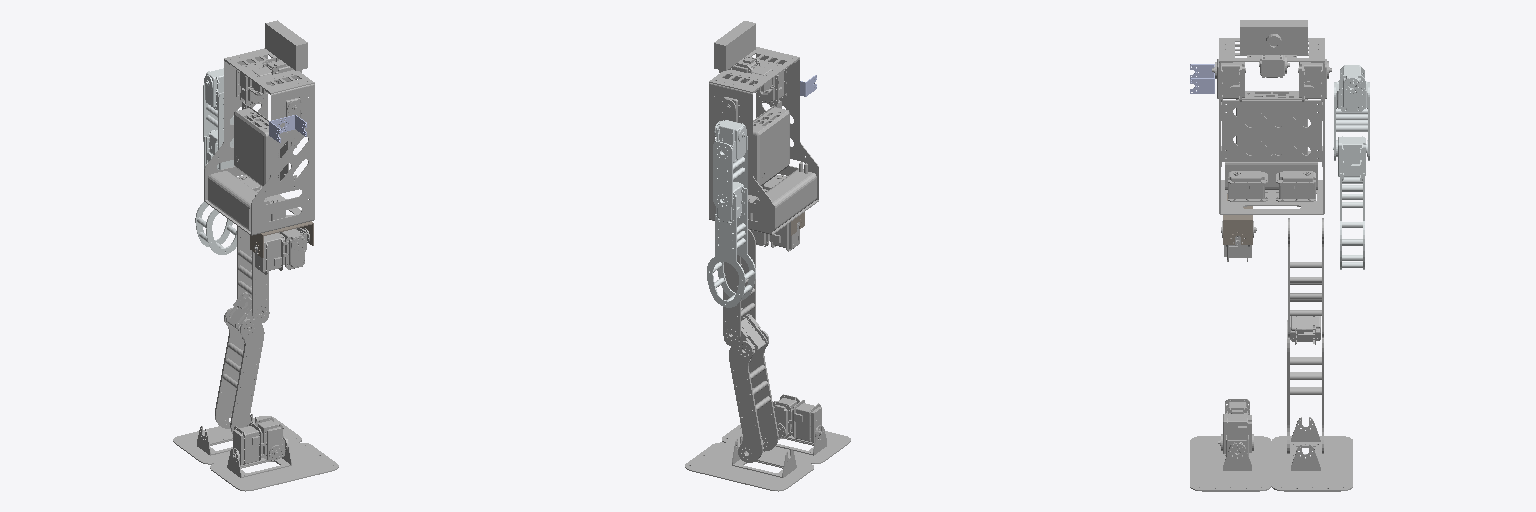
The robot description file, URDF, robot "SAKURA":
<?xml version="1.0"?>
<robot
  name="SAKURA">	
  <link name="base_link">
      <origin
        xyz="0 0 0"
        rpy="0 0 0" />
  </link>
  <link
    name="TRUNK">
    <inertial>
      <origin
        xyz="-0.000142944293532541 -0.0159940135836359 0.119253638413231"
        rpy="0 0 0" />
      <mass
        value="1.4778155091901" />
      <inertia
        ixx="0.0125398154437975"
        ixy="-2.68478156217668E-06"
        ixz="-7.17353402812125E-06"
        iyy="0.016695640033345"
        iyz="0.000776177026664091"
        izz="0.01567882258573842" />
    </inertial>
    <visual>
      <origin
        xyz="0 0 0"
        rpy="0 0 0" />
      <geometry>
        <mesh
          filename="package://sakura_description/meshes/TRUNK.STL" />
      </geometry>
      <material
        name="">
        <color
          rgba="0.752941176470588 0.752941176470588 0.752941176470588 1" />
      </material>
    </visual>
  </link>
  <joint name="GLOBAL" type="floating">
    <parent link="base_link"/>
    <child link="TRUNK"/>
    <origin xyz="0 0 0" rpy="0 0 -1.570795"/>
  </joint>
  <link
    name="HEAD0">
    <collision>
      <origin xyz="-0.0038811 0.012249 0.048965"/>
      <geometry>
      <box size="0.01 0.01 0.01"/>
      </geometry>
    </collision>
    <visual>
      <origin xyz="0 0 0" rpy="0 0 0"/>
      <geometry>
    <box size="0.01 0.01 0.01"/>
      </geometry>
      <material name="red"/>
    </visual>
    <inertial>
      <mass value="1e-2" />
      <origin xyz="0 0 0" rpy="0 0 0"/>
      <inertia ixx="1e-3" ixy="0" ixz="0" iyy="1e-3" iyz="0" izz="1e-3" />
    </inertial>
  </link>
  <link
    name="HEAD1">
    <inertial>
      <origin
        xyz="0 0 0"
        rpy="0 0 0" />
      <mass
        value="0.21462" />
      <inertia
        ixx="0.00110122"
        ixy="8.917E-07"
        ixz="4.6738E-06"
        iyy="0.001"
        iyz="-1.8633E-05"
        izz="0.001" />
    </inertial>
    <visual>
      <origin
        xyz="0 0 0"
        rpy="0 0 0" />
      <geometry>
        <mesh
          filename="package://sakura_description/meshes/HEAD.STL" />
      </geometry>
      <material
        name="">
        <color
          rgba="0.75294 0.75294 0.75294 1" />
      </material>
    </visual>
  </link>
  
  <joint
    name="J_HEAD0"
    type="continuous">
    <origin
      xyz="0.0016 0.01125 0.2484"
      rpy="0 0 0" />
    <parent
      link="TRUNK" />
    <child
      link="HEAD0" />
    <axis
      xyz="0 0 1" />
    <limit
      effort="10"
      velocity="8.58" />
    <dynamics 
	  damping="0.7"
	  friction="0.5"/>
  </joint>
  
  <joint
    name="J_HEAD1"
    type="continuous">
    <origin
      xyz="0 0 0"
      rpy="0 0 0" />
    <parent
      link="HEAD0" />
    <child
      link="HEAD1" />
    <axis
      xyz="1 0 0" />
    <limit
      effort="10"
      velocity="8.58" />
    <dynamics 
	  damping="0.7"
	  friction="0.5"/>
  </joint>
  
  <link
    name="LARM0">
    <inertial>
      <origin
        xyz="4.16333634234434E-17 2.77555756156289E-17 0.0103025666414173"
        rpy="0 0 0" />
      <mass
        value="0.0066175226097181" />
      <inertia
        ixx="1.E-03"
        ixy="0"
        ixz="0"
        iyy="1.E-03"
        iyz="0"
        izz="1.E-03" />
    </inertial>
    <visual>
      <origin
        xyz="0 0 0"
        rpy="0 0 0" />
      <geometry>
        <mesh
          filename="package://sakura_description/meshes/LARM0.STL" />
      </geometry>
      <material
        name="">
        <color
          rgba="0.792156862745098 0.819607843137255 0.933333333333333 1" />
      </material>
    </visual>
  </link>
  <joint
    name="J_LARM0"
    type="continuous">
    <origin
      xyz="-0.0935 -0.038 0.209"
      rpy="1.5708 3.14159 -1.5708" />
    <parent
      link="TRUNK" />
    <child
      link="LARM0" />
    <axis
      xyz="0 0 1" />
    <limit
      effort="10"
      velocity="8.58" />
    <dynamics 
     damping="0.7"
     friction="0.5"/>
  </joint>
  <link
    name="LARM1">
    <inertial>
      <origin
        xyz="-0.000203905909046856 -0.0358166170046635 -0.030724518771744"
        rpy="0 0 0" />
      <mass
        value="0.386889741732442" />
      <inertia
        ixx="0.001319462933467775"
        ixy="-7.00859671208955E-06"
        ixz="-6.33921748509821E-09"
        iyy="0.001"
        iyz="6.46973244600118E-07"
        izz="0.001386423060557297" />
    </inertial>
    <visual>
      <origin
        xyz="0 0 0"
        rpy="0 0 0" />
      <geometry>
        <mesh
          filename="package://sakura_description/meshes/LARM1.STL" />
      </geometry>
      <material
        name="">
        <color
          rgba="0.898039215686275 0.92156862745098 0.929411764705882 1" />
      </material>
    </visual>
  </link>
  <joint
    name="J_LARM1"
    type="continuous">
    <origin
      xyz="-0.0308 0 0.036"
      rpy="3.1416 1.5708 0" />
    <parent
      link="LARM0" />
    <child
      link="LARM1" />
    <axis
      xyz="0 0 -1" />
    <limit
      effort="10"
      velocity="8.58" />
        <dynamics 
     damping="0.7"
     friction="0.5"/>
  </joint>
  <link
    name="LARM2">
    <inertial>
      <origin
        xyz="-0.000946892853796732 -0.0604743903550126 -0.030549305382329"
        rpy="0 0 0" />
      <mass
        value="0.417770884687889" />
      <inertia
        ixx="0.00130365609096481"
        ixy="-2.20058971275383E-05"
        ixz="-1.13235654810576E-07"
        iyy="0.001"
        iyz="-4.76741794550902E-06"
        izz="0.00130522583526536" />
    </inertial>
    <visual>
      <origin
        xyz="0 0 0"
        rpy="0 0 0" />
      <geometry>
        <mesh
          filename="package://sakura_description/meshes/LARM2.STL" />
      </geometry>
      <material
        name="">
        <color
          rgba="0.898039215686275 0.92156862745098 0.929411764705882 1" />
      </material>
    </visual>
  </link>
  <joint
    name="J_LARM2"
    type="continuous">
    <origin
      xyz="0.0307 -0.1235 -0.0308"
      rpy="0 1.5708 0" />
    <parent
      link="LARM1" />
    <child
      link="LARM2" />
    <axis
      xyz="0 0 -1" />
    <limit
      effort="10"
      velocity="8.58" />
        <dynamics 
     damping="0.7"
     friction="0.5"/>
  </joint>
  <link
    name="RARM0">
    <inertial>
      <origin
        xyz="-4.16333634234434E-17 0 0.0103025666414173"
        rpy="0 0 0" />
      <mass
        value="0.00661752260971814" />
      <inertia
        ixx="1.E-03"
        ixy="0"
        ixz="0"
        iyy="1.E-03"
        iyz="0"
        izz="1.E-03" />
    </inertial>
    <visual>
      <origin
        xyz="0 0 0"
        rpy="0 0 0" />
      <geometry>
        <mesh
          filename="package://sakura_description/meshes/RARM0.STL" />
      </geometry>
      <material
        name="">
        <color
          rgba="0.792156862745098 0.819607843137255 0.933333333333333 1" />
      </material>
    </visual>
  </link>
  <joint
    name="J_RARM0"
    type="continuous">
    <origin
      xyz="0.0935 -0.038 0.209"
      rpy="-1.5708 -6.1121E-16 -1.5708" />
    <parent
      link="TRUNK" />
    <child
      link="RARM0" />
    <axis
      xyz="0 0 1" />
    <limit
      effort="10"
      velocity="8.58" />
        <dynamics 
     damping="0.7"
     friction="0.5"/>
  </joint>
  <link
    name="RARM1">
    <inertial>
      <origin
        xyz="-0.00020391 -0.035817 -0.030725"
        rpy="0 0 0" />
      <mass
        value="0.38689" />
      <inertia
        ixx="0.00131946"
        ixy="-7.0086E-06"
        ixz="-6.3392E-09"
        iyy="0.001"
        iyz="6.4697E-07"
        izz="0.00138642" />
    </inertial>
    <visual>
      <origin
        xyz="0 0 0"
        rpy="0 0 0" />
      <geometry>
        <mesh
          filename="package://sakura_description/meshes/RARM1.STL" />
      </geometry>
      <material
        name="">
        <color
          rgba="0.89804 0.92157 0.92941 1" />
      </material>
    </visual>
  </link>
  <joint
    name="J_RARM1"
    type="continuous">
    <origin
      xyz="-0.0308 0 0.036"
      rpy="3.1416 1.5708 0" />
    <parent
      link="RARM0" />
    <child
      link="RARM1" />
    <axis
      xyz="0 0 1" />
    <limit
      effort="10"
      velocity="8.58" />
        <dynamics 
     damping="0.7"
     friction="0.5"/>
  </joint>
  <link
    name="RARM2">
    <inertial>
      <origin
        xyz="-0.000946892853796774 -0.0604743903550127 -0.0305493053823289"
        rpy="0 0 0" />
      <mass
        value="0.417770884687889" />
      <inertia
        ixx="0.00130365609096481"
        ixy="-2.20058971275389E-05"
        ixz="-1.13235654810633E-07"
        iyy="0.001"
        iyz="-4.76741794550966E-06"
        izz="0.00130522583526536" />
    </inertial>
    <visual>
      <origin
        xyz="0 0 0"
        rpy="0 0 0" />
      <geometry>
        <mesh
          filename="package://sakura_description/meshes/RARM2.STL" />
      </geometry>
      <material
        name="">
        <color
          rgba="0.898039215686275 0.92156862745098 0.929411764705882 1" />
      </material>
    </visual>
  </link>
  <joint
    name="J_RARM2"
    type="continuous">
    <origin
      xyz="0.0307 -0.1235 -0.0308"
      rpy="0 1.5708 0" />
    <parent
      link="RARM1" />
    <child
      link="RARM2" />
    <axis
      xyz="0 0 -1" />
    <limit
      effort="10"
      velocity="8.58" />
        <dynamics 
     damping="0.7"
     friction="0.5"/>
  </joint>
  <link
    name="LLEG0">
    <inertial>
      <origin
        xyz="1.38777878078145E-17 1.38777878078145E-17 0.012339611662812"
        rpy="0 0 0" />
      <mass
        value="0.137487098095279" />
      <inertia
        ixx="0.001"
        ixy="0"
        ixz="0"
        iyy="0.001"
        iyz="0"
        izz="0.001" />
    </inertial>
    <visual>
      <origin
        xyz="0 0 0"
        rpy="0 0 0" />
      <geometry>
        <mesh
          filename="package://sakura_description/meshes/LLEG0.STL" />
      </geometry>
      <material
        name="">
        <color
          rgba="0.650980392156863 0.619607843137255 0.588235294117647 1" />
      </material>
    </visual>
  </link>
  <joint
    name="J_LLEG0"
    type="continuous">
    <origin
      xyz="-0.055 -0.018 -0.005"
      rpy="-3.14159265358979 1.21430643318376E-16 -1.5707963267949" />
    <parent
      link="TRUNK" />
    <child
      link="LLEG0" />
    <axis
      xyz="0 0 1" />
    <limit
      effort="10"
      velocity="8.58" />
        <dynamics 
     damping="0.7"
     friction="0.5"/>
  </joint>
  <link
    name="LLEG1">
    <inertial>
      <origin
        xyz="-4.90216563097182E-05 -0.014933566350856 -0.0542307430726147"
        rpy="0 0 0" />
      <mass
        value="0.484317524341268" />
      <inertia
        ixx="0.001258532465487086"
        ixy="-1.08430216395215E-08"
        ixz="-4.93107012410751E-07"
        iyy="0.001256538006237082"
        iyz="8.86337248194806E-06"
        izz="0.001" />
    </inertial>
    <visual>
      <origin
        xyz="0 0 0"
        rpy="0 0 0" />
      <geometry>
        <mesh
          filename="package://sakura_description/meshes/LLEG1.STL" />
      </geometry>
      <material
        name="">
        <color
          rgba="0.752941176470588 0.752941176470588 0.752941176470588 1" />
      </material>
    </visual>
  </link>
  <joint
    name="J_LLEG1"
    type="continuous">
    <origin
      xyz="0.056 0 0.036"
      rpy="-1.5707963267949 -1.22338662637834E-16 -1.5707963267949" />
    <parent
      link="LLEG0" />
    <child
      link="LLEG1" />
    <axis
      xyz="0 0 -1" />
    <limit
      effort="10"
      velocity="8.58" />
        <dynamics 
     damping="0.7"
     friction="0.5"/>
  </joint>
  <link
    name="LLEG2">
    <inertial>
      <origin
        xyz="0.0896135033902749 -0.121669815792639 -0.0285739776731877"
        rpy="0 0 0" />
      <mass
        value="0.429581814867276" />
      <inertia
        ixx="0.001739443276879588"
        ixy="0.000469298592224479"
        ixz="-4.17657698668898E-06"
        iyy="0.00145781924000273"
        iyz="4.49877955818474E-06"
        izz="0.00100793675092908" />
    </inertial>
    <visual>
      <origin
        xyz="0 0 0"
        rpy="0 0 0" />
      <geometry>
        <mesh
          filename="package://sakura_description/meshes/LLEG2.STL" />
      </geometry>
      <material
        name="">
        <color
          rgba="0.752941176470588 0.752941176470588 0.752941176470588 1" />
      </material>
    </visual>
  </link>
  <joint
    name="J_LLEG2"
    type="continuous">
    <origin
      xyz="0.0289999999999999 0 -0.0750000000000234"
      rpy="-1.5707963267949 0.78539816339745 -1.5707963267949" />
    <parent
      link="LLEG1" />
    <child
      link="LLEG2" />
    <axis
      xyz="0 0 1" />
    <limit
      effort="10"
      velocity="8.58" />
        <dynamics 
     damping="0.7"
     friction="0.5"/>
  </joint>
  <link
    name="LLEG3">
    <inertial>
      <origin
        xyz="0.0938607247050214 0.021121469241447 -0.0266864244548486"
        rpy="0 0 0" />
      <mass
        value="0.253457988874213" />
      <inertia
        ixx="0.001157893827081503"
        ixy="4.33507693026071E-06"
        ixz="2.38137513758817E-06"
        iyy="0.001215254509125973"
        iyz="4.49605098935315E-06"
        izz="0.001" />
    </inertial>
    <visual>
      <origin
        xyz="0 0 0"
        rpy="0 0 0" />
      <geometry>
        <mesh
          filename="package://sakura_description/meshes/LLEG3.STL" />
      </geometry>
      <material
        name="">
        <color
          rgba="0.752941176470588 0.752941176470588 0.752941176470588 1" />
      </material>
    </visual>
  </link>
  <joint
    name="J_LLEG3"
    type="continuous">
    <origin
      xyz="0.112429978208667 -0.169643181644254 0.00160000000000024"
      rpy="-0.0320557226319531 0.0283578707512148 -1.01721646459287" />
    <parent
      link="LLEG2" />
    <child
      link="LLEG3" />
    <axis
      xyz="-0.0283540701513945 -0.0320373469653184 0.999084408398647" />
    <limit
      effort="10"
      velocity="8.58" />
        <dynamics 
     damping="0.7"
     friction="0.5"/>  
  </joint>
  <link
    name="LLEG4">
    <inertial>
      <origin
        xyz="0.0207692569273853 -0.0149335663508559 -0.0309509783436903"
        rpy="0 0 0" />
      <mass
        value="0.484317524341267" />
      <inertia
        ixx="0.001"
        ixy="8.86337248194725E-06"
        ixz="4.93107012410836E-07"
        iyy="0.001256538006237082"
        iyz="1.08430216395228E-08"
        izz="0.001258532465487085" />
    </inertial>
    <visual>
      <origin
        xyz="0 0 0"
        rpy="0 0 0" />
      <geometry>
        <mesh
          filename="package://sakura_description/meshes/LLEG4.STL" />
      </geometry>
      <material
        name="">
        <color
          rgba="0.752941176470588 0.752941176470588 0.752941176470588 1" />
      </material>
    </visual>
  </link>
  <joint
    name="J_LLEG4"
    type="continuous">
    <origin
      xyz="0.19759 0.040682 0.007913"
      rpy="0.034963 0.024684 -1.339" />
    <parent
      link="LLEG3" />
    <child
      link="LLEG4" />
    <axis
      xyz="0 0 -1" />
    <limit
      effort="10"
      velocity="8.58" />
        <dynamics 
     damping="0.7"
     friction="0.5"/>
  </joint>
  <link
    name="LFOOT">
    <inertial>
      <origin
        xyz="-0.00984398078216434 0.033081446163245 0.0742424926896279"
        rpy="0 0 0" />
      <mass
        value="0.474832547151362" />
      <inertia
        ixx="0.001"
        ixy="8.95545085142721E-06"
        ixz="2.1883900378474E-05"
        iyy="0.001"
        iyz="-1.93251189181957E-05"
        izz="0.001" />
    </inertial>
    <visual>
      <origin
        xyz="0 0 0"
        rpy="0 0 0" />
      <geometry>
        <mesh
          filename="package://sakura_description/meshes/LFOOT.STL" />
      </geometry>
      <material
        name="">
        <color
          rgba="0.752941176470588 0.752941176470588 0.752941176470588 1" />
      </material>
    </visual>
    <collision>
      <origin
        xyz="0 0 0"
        rpy="0 0 0" />
      <geometry>
        <mesh
          filename="package://sakura_description/meshes/LFOOT.STL" />
      </geometry>
    </collision>
  </link>
  <joint
    name="J_LFOOT"
    type="continuous">
    <origin
      xyz="0.072 0 -0.031"
      rpy="0 -1.5708 0" />
    <parent
      link="LLEG4" />
    <child
      link="LFOOT" />
    <axis
      xyz="0 0 -1" />
    <limit
      effort="10"
      velocity="8.58" />
        <dynamics 
     damping="0.7"
     friction="0.5"/>
  </joint>
  <link
    name="RLEG0">
    <inertial>
      <origin
        xyz="0 1.38777878078145E-17 0.012339611662812"
        rpy="0 0 0" />
      <mass
        value="0.137487098095279" />
      <inertia
        ixx="0.001"
        ixy="0"
        ixz="0"
        iyy="0.001"
        iyz="0"
        izz="0.001" />
    </inertial>
    <visual>
      <origin
        xyz="0 0 0"
        rpy="0 0 0" />
      <geometry>
        <mesh
          filename="package://sakura_description/meshes/RLEG0.STL" />
      </geometry>
      <material
        name="">
        <color
          rgba="0.650980392156863 0.619607843137255 0.588235294117647 1" />
      </material>
    </visual>
  </link>
  <joint
    name="J_RLEG0"
    type="continuous">
    <origin
      xyz="0.055 -0.018 -0.005"
      rpy="-3.14159265358979 1.21430643318376E-16 -1.5707963267949" />
    <parent
      link="TRUNK" />
    <child
      link="RLEG0" />
    <axis
      xyz="0 0 1" />
    <limit
      effort="10"
      velocity="8.58" />
        <dynamics 
     damping="0.7"
     friction="0.5"/>
  </joint>
  <link
    name="RLEG1">
    <inertial>
      <origin
        xyz="-4.9022E-05 -0.014934 -0.054231"
        rpy="0 0 0" />
      <mass
        value="0.48432" />
      <inertia
        ixx="0.00125853"
        ixy="-1.0843E-08"
        ixz="-4.9311E-07"
        iyy="0.00125654"
        iyz="8.8634E-06"
        izz="0.001" />
    </inertial>
    <visual>
      <origin
        xyz="0 0 0"
        rpy="0 0 0" />
      <geometry>
        <mesh
          filename="package://sakura_description/meshes/RLEG1.STL" />
      </geometry>
      <material
        name="">
        <color
          rgba="0.75294 0.75294 0.75294 1" />
      </material>
    </visual>
  </link>
  <joint
    name="J_RLEG1"
    type="continuous">
    <origin
      xyz="0.056 0 0.036"
      rpy="-1.5707963267949 2.66239395980971E-16 -1.5707963267949" />
    <parent
      link="RLEG0" />
    <child
      link="RLEG1" />
    <axis
      xyz="0 0 -1" />
    <limit
      effort="10"
      velocity="8.58" />
        <dynamics 
     damping="0.7"
     friction="0.5"/>
  </joint>
  <link
    name="RLEG2">
    <inertial>
      <origin
        xyz="0.089613503390275 -0.121669815792639 -0.0285739776731877"
        rpy="0 0 0" />
      <mass
        value="0.429581814867276" />
      <inertia
        ixx="0.001739443276879589"
        ixy="0.00046929859222448"
        ixz="-4.17657698668821E-06"
        iyy="0.001457819240002731"
        iyz="4.49877955818371E-06"
        izz="0.00100793675092908" />
    </inertial>
    <visual>
      <origin
        xyz="0 0 0"
        rpy="0 0 0" />
      <geometry>
        <mesh
          filename="package://sakura_description/meshes/RLEG2.STL" />
      </geometry>
      <material
        name="">
        <color
          rgba="0.752941176470588 0.752941176470588 0.752941176470588 1" />
      </material>
    </visual>
  </link>
  <joint
    name="J_RLEG2"
    type="continuous">
    <origin
      xyz="0.0290000000000001 0 -0.075"
      rpy="-1.5707963267949 0.78539816339745 -1.5707963267949" />
    <parent
      link="RLEG1" />
    <child
      link="RLEG2" />
    <axis
      xyz="0 0 -1" />
    <limit
      effort="10"
      velocity="8.58" />
        <dynamics 
     damping="0.7"
     friction="0.5"/>
  </joint>
  <link
    name="RLEG3">
    <inertial>
      <origin
        xyz="0.093861 0.021121 -0.026686"
        rpy="0 0 0" />
      <mass
        value="0.25346" />
      <inertia
        ixx="0.00115789"
        ixy="4.3351E-06"
        ixz="2.3814E-06"
        iyy="0.00121525"
        iyz="4.4961E-06"
        izz="0.001" />
    </inertial>
    <visual>
      <origin
        xyz="0 0 0"
        rpy="0 0 0" />
      <geometry>
        <mesh
          filename="package://sakura_description/meshes/RLEG3.STL" />
      </geometry>
      <material
        name="">
        <color
          rgba="0.75294 0.75294 0.75294 1" />
      </material>
    </visual>
  </link>
  <joint
    name="J_RLEG3"
    type="continuous">
    <origin
      xyz="0.112429978208668 -0.169643181644253 0.00160000000000014"
      rpy="-0.0320557226319534 0.0283578707512146 -1.01721646459286" />
    <parent
      link="RLEG2" />
    <child
      link="RLEG3" />
    <axis
      xyz="0.0283540701513948 0.0320373469653193 -0.999084408398647" />
    <limit
      effort="10"
      velocity="8.58" />
        <dynamics 
     damping="0.7"
     friction="0.5"/>
  </joint>
  <link
    name="RLEG4">
    <inertial>
      <origin
        xyz="0.0207692569273853 -0.014933566350856 -0.0309509783436903"
        rpy="0 0 0" />
      <mass
        value="0.484317524341268" />
      <inertia
        ixx="0.001"
        ixy="8.86337248194835E-06"
        ixz="4.93107012410999E-07"
        iyy="0.001256538006237082"
        iyz="1.08430216395282E-08"
        izz="0.001258532465487085" />
    </inertial>
    <visual>
      <origin
        xyz="0 0 0"
        rpy="0 0 0" />
      <geometry>
        <mesh
          filename="package://sakura_description/meshes/RLEG4.STL" />
      </geometry>
      <material
        name="">
        <color
          rgba="0.752941176470588 0.752941176470588 0.752941176470588 1" />
      </material>
    </visual>
  </link>
  <joint
    name="J_RLEG4"
    type="continuous">
    <origin
      xyz="0.19759 0.040682 0.007913"
      rpy="0.034963 0.024684 -1.339" />
    <parent
      link="RLEG3" />
    <child
      link="RLEG4" />
    <axis
      xyz="0 0 1" />
    <limit
      effort="10"
      velocity="8.58" />
        <dynamics 
     damping="0.7"
     friction="0.5"/>
  </joint>
  <link
    name="RFOOT">
    <inertial>
      <origin
        xyz="0.009844 0.033081 0.074242"
        rpy="0 0 0" />
      <mass
        value="0.47483" />
      <inertia
        ixx="0.001"
        ixy="-8.9555E-06"
        ixz="-2.1884E-05"
        iyy="0.001"
        iyz="-1.9325E-05"
        izz="0.001" />
    </inertial>
    <visual>
      <origin
        xyz="0 0 0"
        rpy="0 0 0" />
      <geometry>
        <mesh
          filename="package://sakura_description/meshes/RFOOT.STL" />
      </geometry>
      <material
        name="">
        <color
          rgba="0.75294 0.75294 0.75294 1" />
      </material>
    </visual>
    <collision>
      <origin
        xyz="0 0 0"
        rpy="0 0 0" />
      <geometry>
        <mesh
          filename="package://sakura_description/meshes/RFOOT.STL" />
      </geometry>
    </collision>
  </link>
  <joint
    name="J_RFOOT"
    type="continuous">
    <origin
      xyz="0.072 0 -0.031"
      rpy="0 -1.5708 0" />
    <parent
      link="RLEG4" />
    <child
      link="RFOOT" />
    <axis
      xyz="0 0 -1" />
    <limit
      effort="10"
      velocity="8.58" />
        <dynamics 
     damping="0.7"
     friction="0.5"/>
  </joint>  
</robot>

--- Render facts (derived) ---
Views: 3 orthographic renders of the robot side by side, from view 1: azimuth 30°, elevation 25°; view 2: azimuth 150°, elevation 25°; view 3: azimuth 270°, elevation 25°.
Robot: SAKURA — 22 links, 21 joints (20 continuous, 1 floating); root link base_link; default pose: every joint at zero.
Links seen in each view (by area): view 1: TRUNK, LLEG3, RFOOT, LLEG2, RLEG4, HEAD1, RLEG1, LFOOT, LARM2, LARM1, RARM0, RLEG0; view 2: TRUNK, LLEG3, LARM2, LFOOT, LARM1, LLEG2, HEAD1, RLEG4, RFOOT, RLEG1; view 3: TRUNK, LFOOT, RFOOT, HEAD1, LARM2, LARM1, LLEG2, RLEG4, LLEG3, RLEG0, RARM0.
Boxes of the visible links, x1=… form: TRUNK: x1=204, y1=48, x2=314, y2=235; LLEG3: x1=215, y1=307, x2=264, y2=433; RFOOT: x1=210, y1=439, x2=338, y2=491; LLEG2: x1=226, y1=226, x2=269, y2=331; RLEG4: x1=232, y1=417, x2=287, y2=465; HEAD1: x1=262, y1=20, x2=307, y2=84; RLEG1: x1=254, y1=228, x2=309, y2=274; LFOOT: x1=173, y1=414, x2=301, y2=464; LARM2: x1=195, y1=130, x2=236, y2=254; LARM1: x1=203, y1=68, x2=237, y2=149; RARM0: x1=269, y1=115, x2=306, y2=142; RLEG0: x1=250, y1=221, x2=313, y2=257; TRUNK: x1=709, y1=47, x2=818, y2=234; LLEG3: x1=729, y1=329, x2=778, y2=462; LARM2: x1=707, y1=182, x2=755, y2=307; LFOOT: x1=685, y1=436, x2=813, y2=491; LARM1: x1=713, y1=120, x2=747, y2=210; LLEG2: x1=723, y1=229, x2=767, y2=352; HEAD1: x1=714, y1=21, x2=759, y2=84; RLEG4: x1=773, y1=394, x2=822, y2=442; RFOOT: x1=722, y1=424, x2=850, y2=463; RLEG1: x1=751, y1=222, x2=799, y2=251; TRUNK: x1=1212, y1=38, x2=1331, y2=214; LFOOT: x1=1272, y1=417, x2=1352, y2=491; RFOOT: x1=1190, y1=436, x2=1271, y2=491; HEAD1: x1=1240, y1=20, x2=1307, y2=77; LARM2: x1=1333, y1=136, x2=1365, y2=269; LARM1: x1=1334, y1=65, x2=1369, y2=160; LLEG2: x1=1288, y1=218, x2=1323, y2=344; RLEG4: x1=1218, y1=399, x2=1253, y2=457; LLEG3: x1=1287, y1=320, x2=1323, y2=453; RLEG0: x1=1223, y1=194, x2=1252, y2=244; RARM0: x1=1190, y1=64, x2=1214, y2=93.
Bounding box of the posed robot: 0.208 × 0.291 × 0.8159 m (x, y, z).
12 mesh visuals loaded from 20 distinct referenced files (12 binary STL); not drawn: 8 (reference not matched to a file when rendering).
